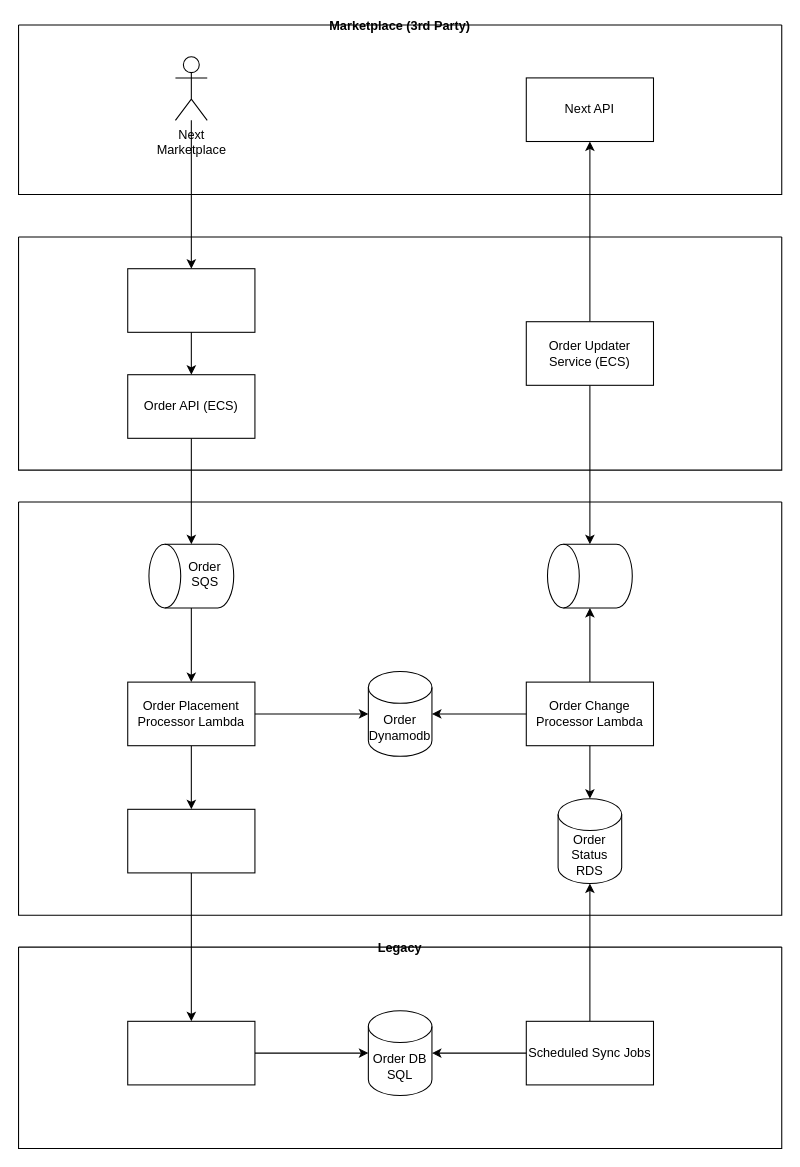
This 800x1167 diagram has some shape labels left out. The box of each missing label's shape, as (x1, y1, x2, y2) in pixels:
API Gateway: (127, 268, 255, 332)
Channel Service (AWS): (17, 236, 782, 470)
EC2: (127, 808, 255, 873)
Order Domain (AWS): (17, 501, 782, 915)
Order Service: (127, 1020, 255, 1085)
Oser Status Kafka: (546, 543, 632, 608)
